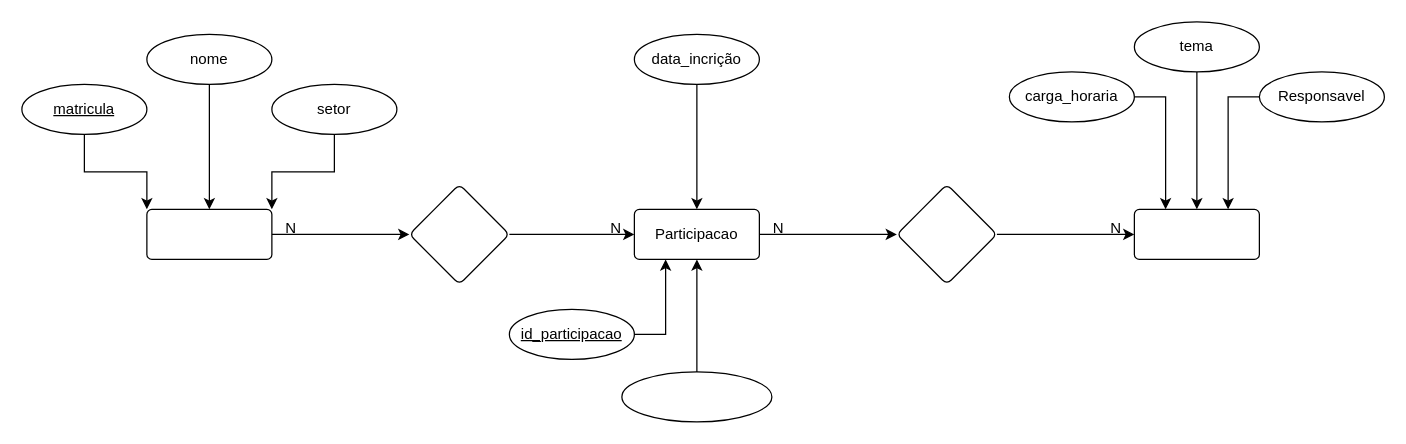
Image size: 1406x444. Some labels were removed from this diagram. The centre of each missing label's shape, as x and y in pixels:
"Colaborador" goes at pixel 209 233.
"Participa" goes at pixel 458 233.
"seleciona" goes at pixel 946 233.
"Status_colaborador" goes at pixel 696 396.
"Treinamento" goes at pixel 1196 233.
